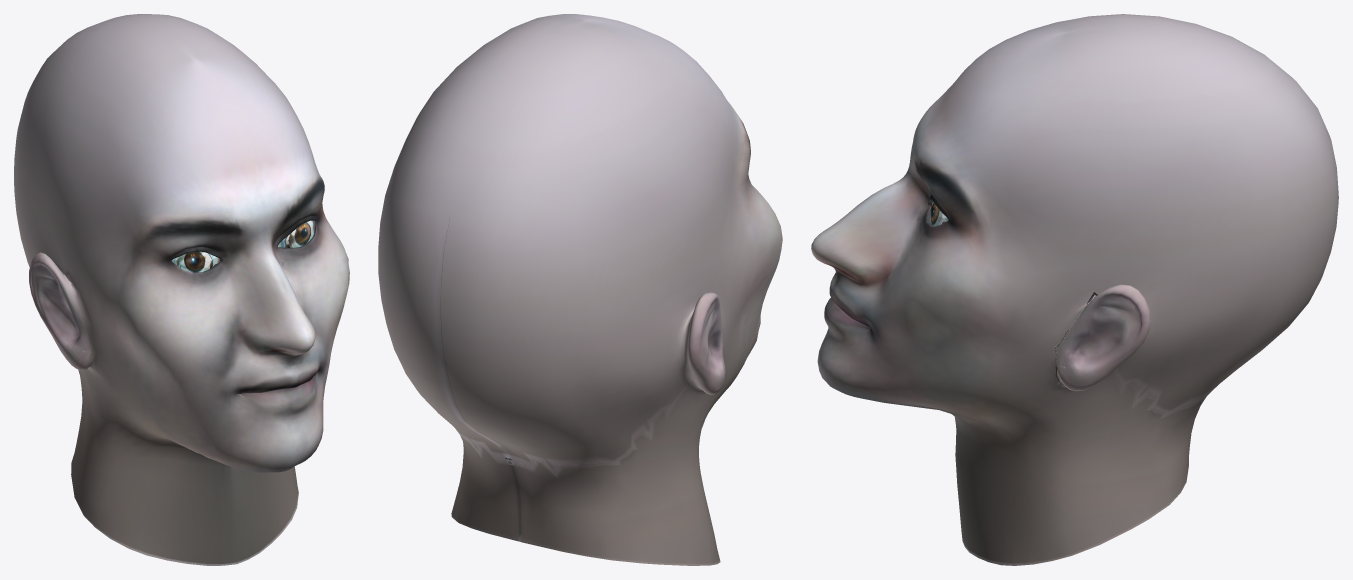
File: testeCar.fbx
The picture shows the model from 3 angles, left to right: view 1: azimuth 30°, elevation 25°; view 2: azimuth 150°, elevation 25°; view 3: azimuth 270°, elevation 25°; orthographic projection. The views are drawn at different scales.
Parts seen in each view (by area): view 1: Skin, LeftEye, RightEye; view 2: Skin; view 3: Skin.
Boxes of the visible parts, box(x1,y1,x2,y2) form: Skin: box(14, 14, 349, 565); LeftEye: box(171, 251, 218, 272); RightEye: box(278, 220, 313, 247); Skin: box(378, 14, 782, 565); Skin: box(811, 14, 1338, 565).
Size of the model in its own units: 159 by 283 by 261.
